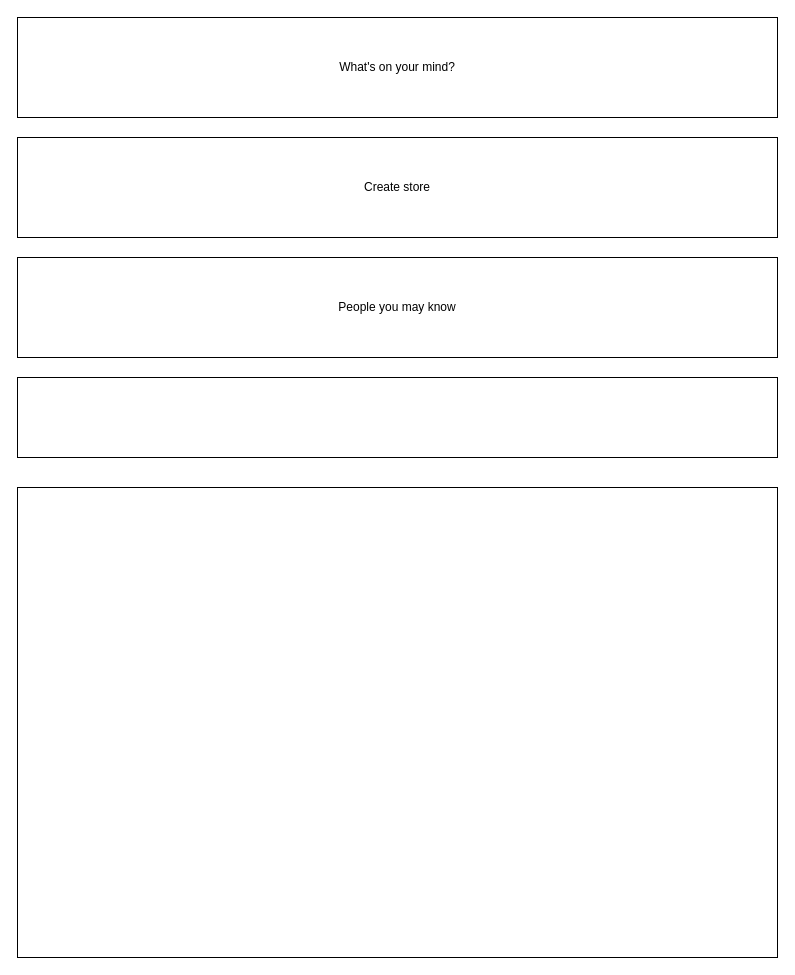
Image size: 795x975. Some labels were removed from this diagram. The centre of each missing label's shape, as x and y in pixels:
"Home page feed" goes at point 397,722.
"Reels" goes at point 397,417.
